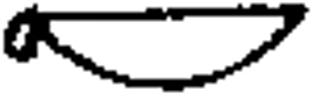Basket: (1, 3, 311, 96)
